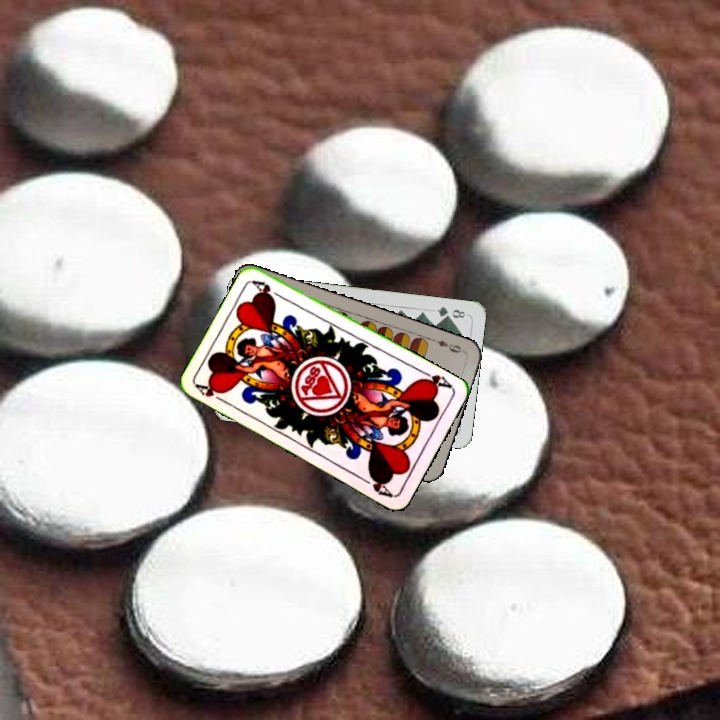E9: (428, 335, 467, 356)
G8: (433, 302, 468, 321)
HA: (192, 379, 230, 406), (415, 367, 455, 392)
